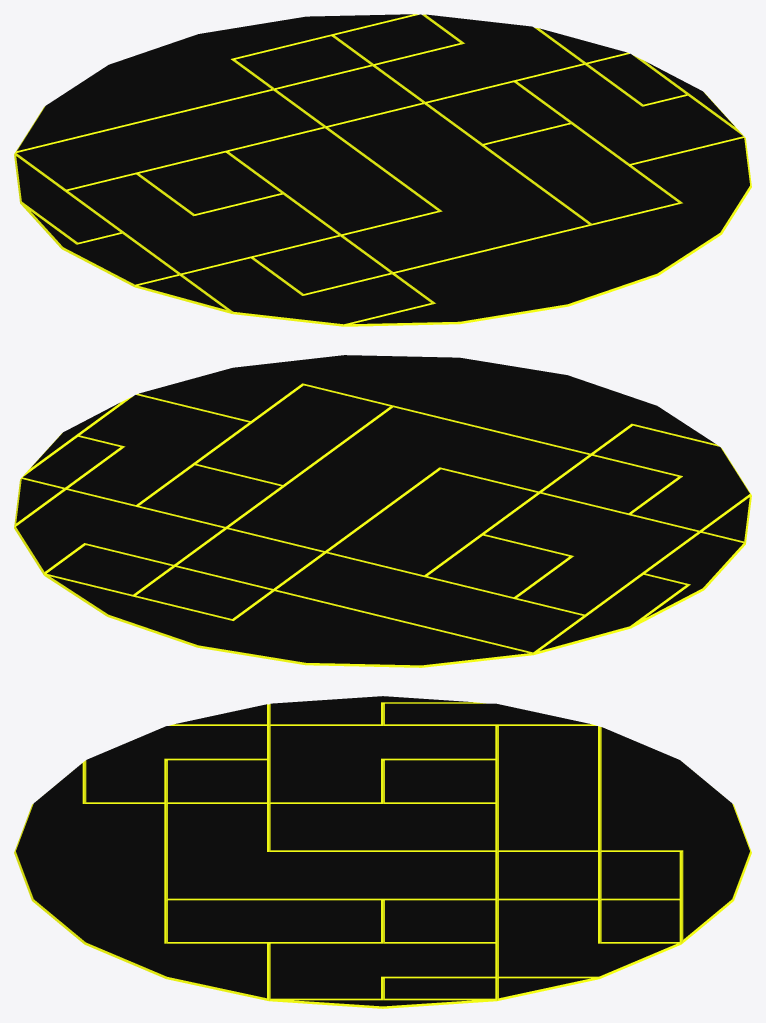
3 views of the same model, one above another, from view 1: azimuth 30°, elevation 25°; view 2: azimuth 150°, elevation 25°; view 3: azimuth 270°, elevation 25° (orthographic).
Visible parts, largest first — view 1: Cyberpunk Round Tile.005; view 2: Cyberpunk Round Tile.005; view 3: Cyberpunk Round Tile.005.
Part boxes in pixels (left/top/right/bottom): Cyberpunk Round Tile.005: left=14, top=14, right=751, bottom=326; Cyberpunk Round Tile.005: left=14, top=355, right=751, bottom=667; Cyberpunk Round Tile.005: left=14, top=696, right=751, bottom=1008.
Bounding box in the file's own units: 0.845 × 0.00211 × 0.845.
Materials: 1 (1 with a texture image).
